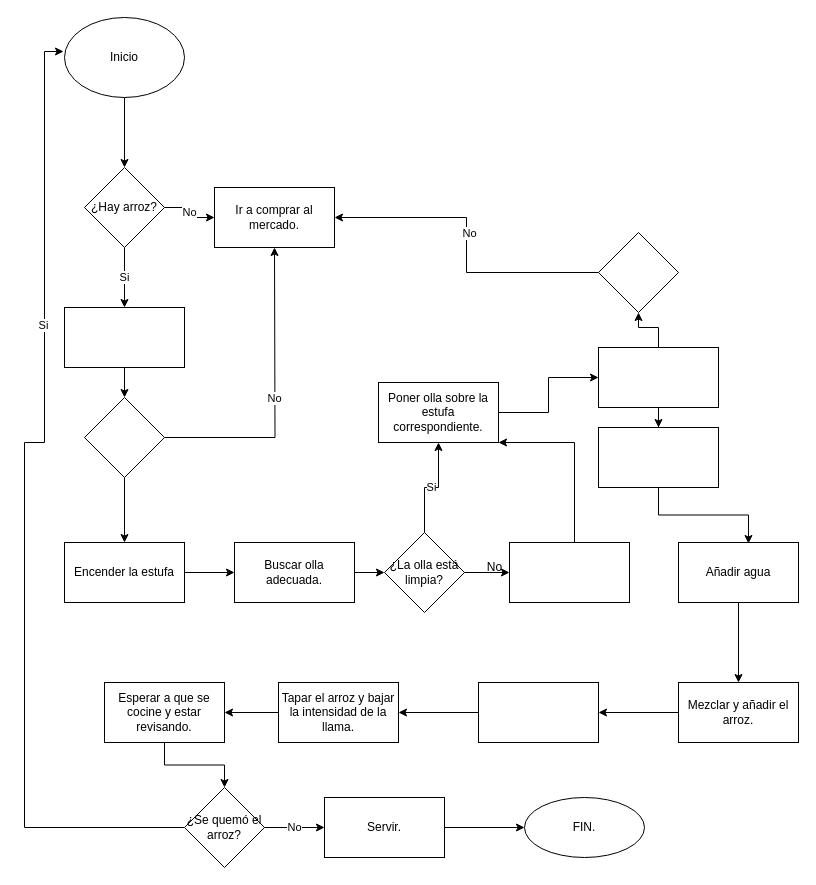
The diagram is 816 pixels wide and 885 high, and some of its shapes have lost their labels. The box of each missing label's shape, as (x1, y1, x2, y2) in pixels:
Esperar a que hierva.: (478, 682, 598, 742)
Lavar el arroz.: (64, 306, 184, 368)
Lavar la olla: (508, 542, 630, 602)
Poner aceite: (598, 346, 718, 408)
Poner cebolla o ajo a freir.: (598, 426, 718, 488)
¿Hay aceite?: (598, 232, 678, 312)
¿Hay Ajo o cebolla?: (84, 396, 164, 478)
